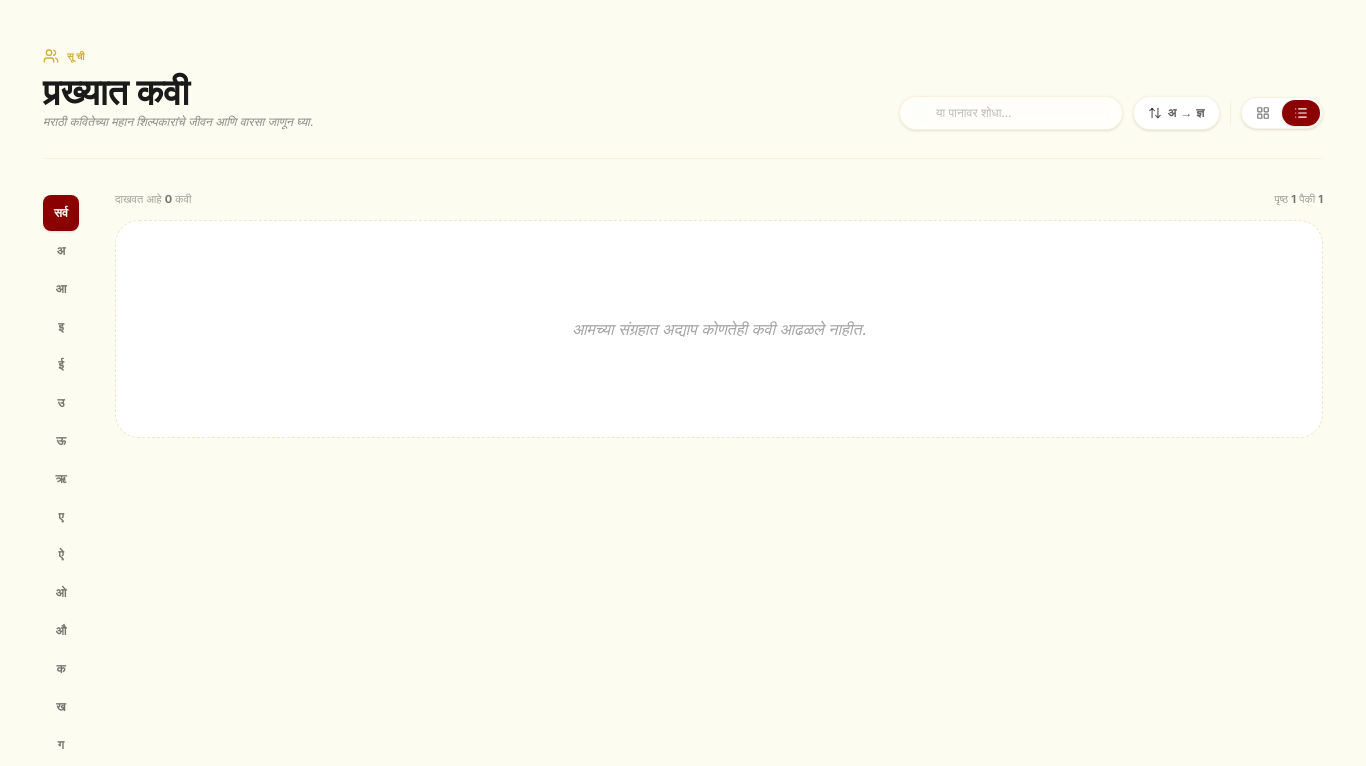
it: PoetsPage wiring › shows a letter-specific empty message when the letter has no poets
The width and height of the screenshot is (1366, 766).
Click the button "क".
click(61, 669)  # box [43,651,79,687]
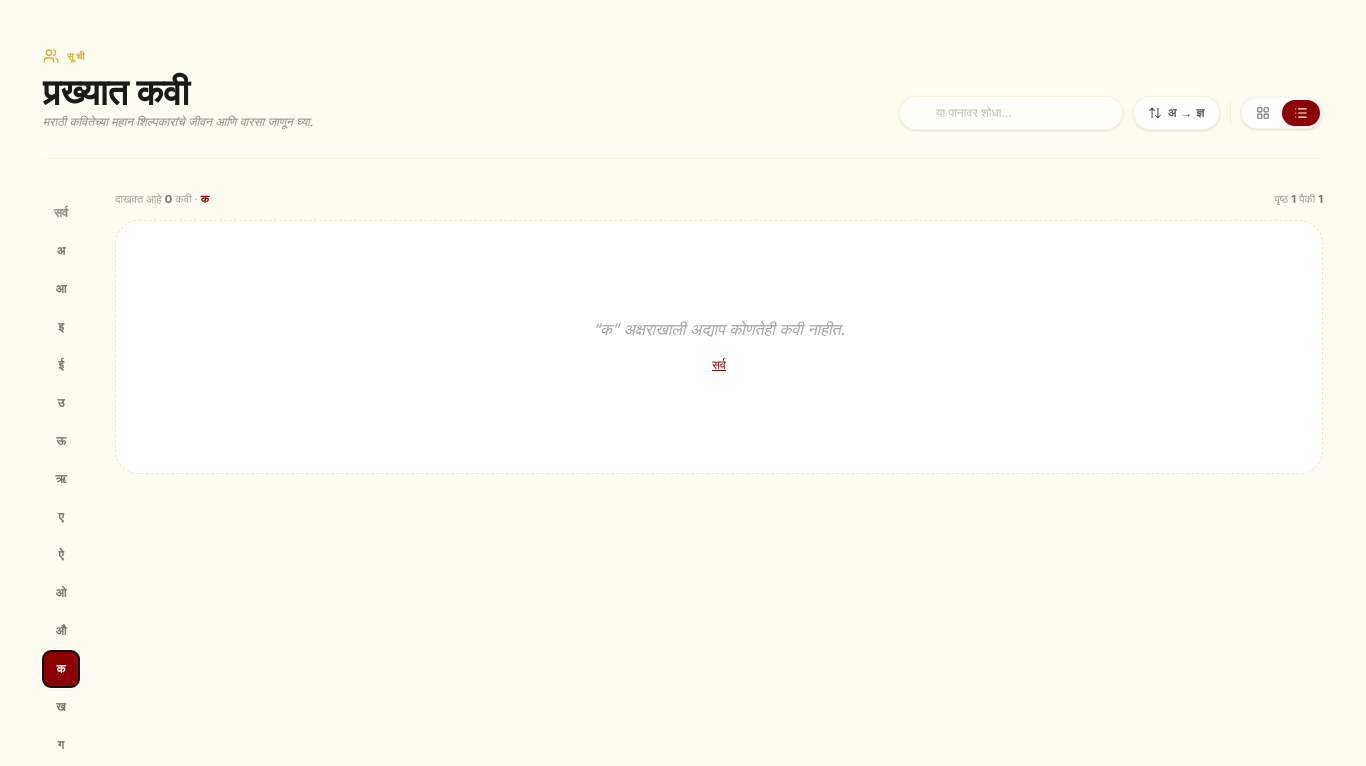
Now the text "“क” अक्षराखाली अद्याप कोणतेही कवी नाहीत." is shown, box [593,318,845,338]
